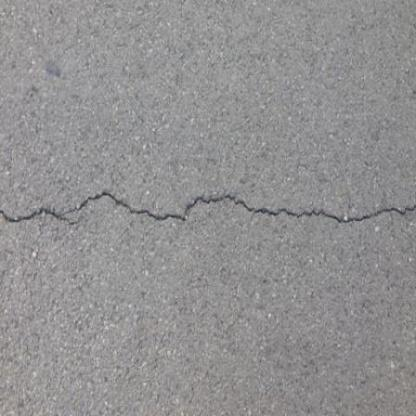Cracks: (2, 159, 416, 256)
